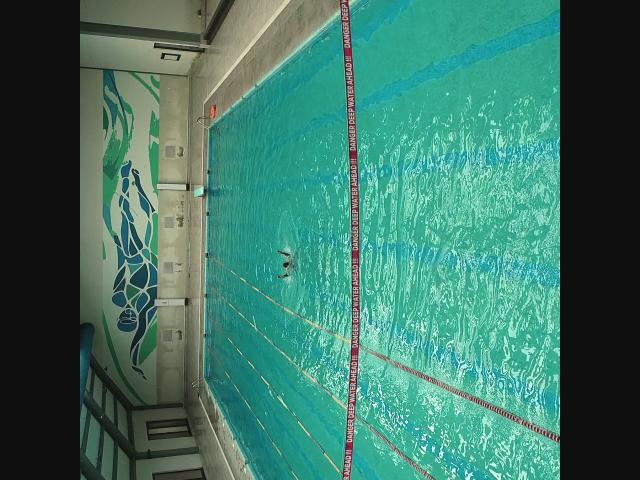drowning: (276, 249, 298, 279)
